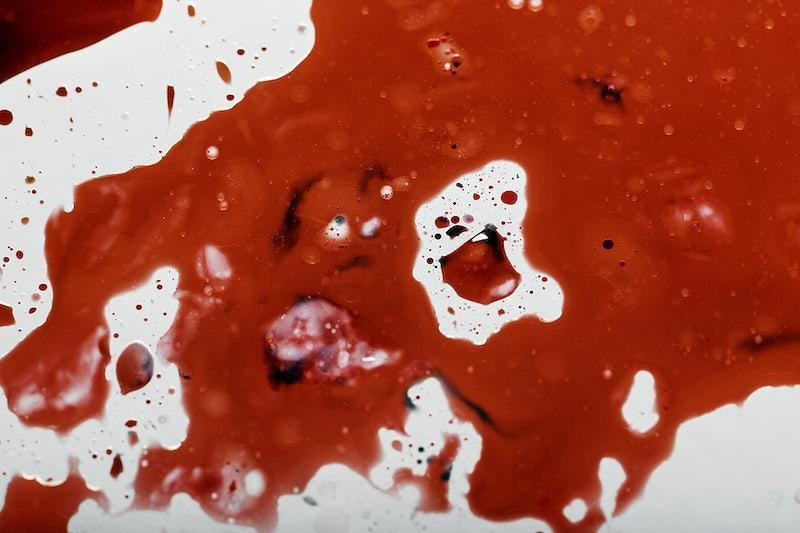Fire: (0, 1, 800, 532), (0, 0, 162, 82), (227, 38, 280, 84), (0, 238, 16, 282), (166, 84, 175, 122), (216, 60, 230, 83), (1, 304, 14, 326), (0, 109, 12, 124), (54, 85, 68, 96), (187, 3, 196, 16), (24, 175, 36, 184), (37, 283, 47, 292), (31, 293, 40, 302), (24, 126, 32, 136), (15, 250, 23, 258), (28, 307, 36, 314), (74, 85, 81, 92), (226, 94, 233, 100), (21, 216, 26, 224), (38, 199, 43, 204), (30, 188, 36, 192), (93, 81, 96, 86), (201, 19, 205, 22)
